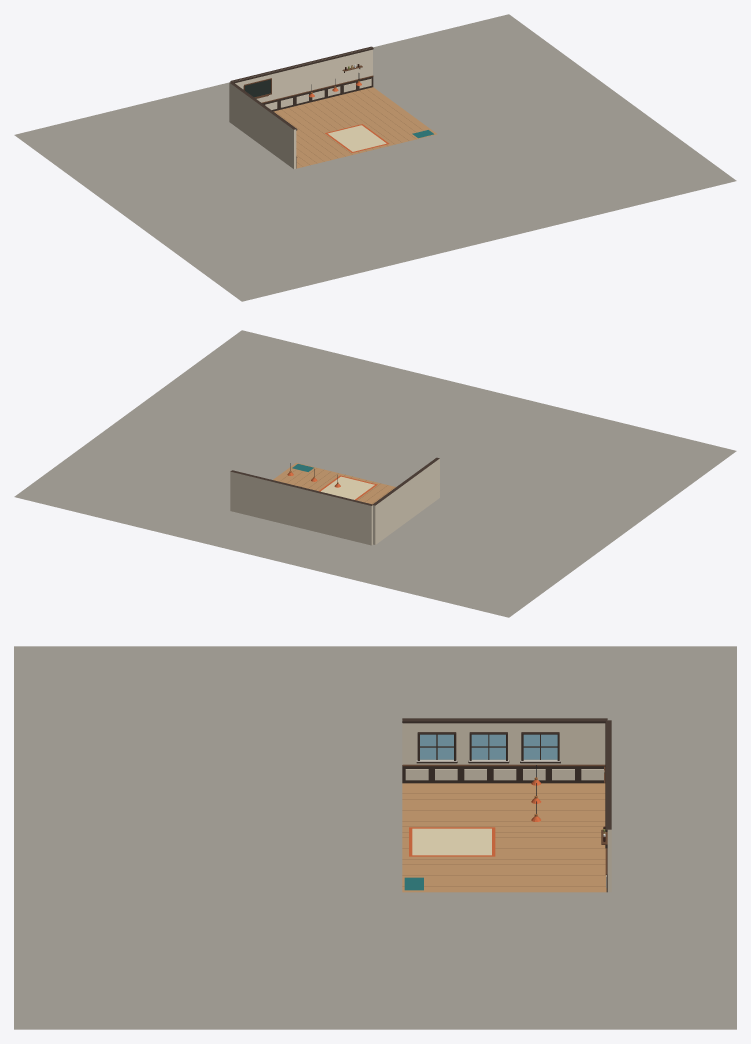
Rendered from shell_corner.fbx.
3 renders of one model, top to bottom at view 1: azimuth 30°, elevation 25°; view 2: azimuth 150°, elevation 25°; view 3: azimuth 270°, elevation 25°, orthographic. The views are drawn at different scales.
Visible parts, largest first — view 1: shell_corner; view 2: shell_corner; view 3: shell_corner.
Boxes of the visible parts, <box> form: shell_corner: <box>14,14,736,301</box>; shell_corner: <box>14,330,736,617</box>; shell_corner: <box>14,646,736,1029</box>.
Bounding box in the file's own units: 42 × 3.22 × 33.5.
